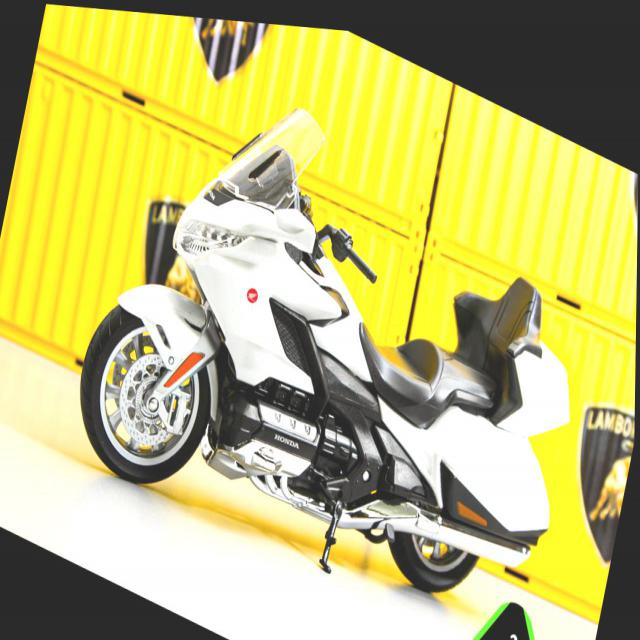Gold Wing: (64, 22, 607, 639)
